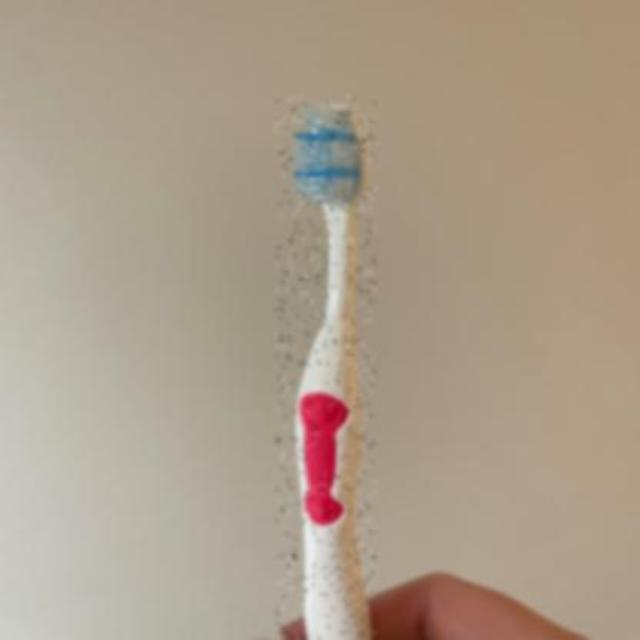toothbrush: (275, 96, 375, 640)
